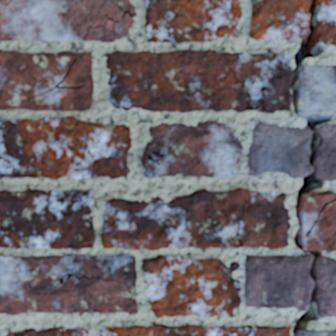brick: (106, 50, 292, 112), (101, 188, 289, 249), (0, 255, 136, 314), (0, 117, 130, 178), (142, 255, 240, 317), (142, 121, 241, 177), (0, 50, 92, 110), (0, 190, 93, 248), (0, 0, 121, 40), (145, 0, 241, 42), (299, 195, 335, 250), (100, 325, 290, 335), (298, 65, 335, 115), (86, 15, 133, 41), (7, 327, 87, 335), (113, 0, 135, 15), (294, 330, 335, 335)
broken_brick: (244, 253, 312, 312), (248, 121, 311, 179), (250, 0, 309, 43), (315, 254, 335, 317), (314, 123, 335, 181), (318, 0, 335, 46)
crack: (289, 0, 335, 333), (83, 0, 133, 40), (220, 196, 246, 246), (304, 197, 335, 237), (143, 138, 178, 166), (231, 68, 254, 110), (260, 67, 281, 112)
